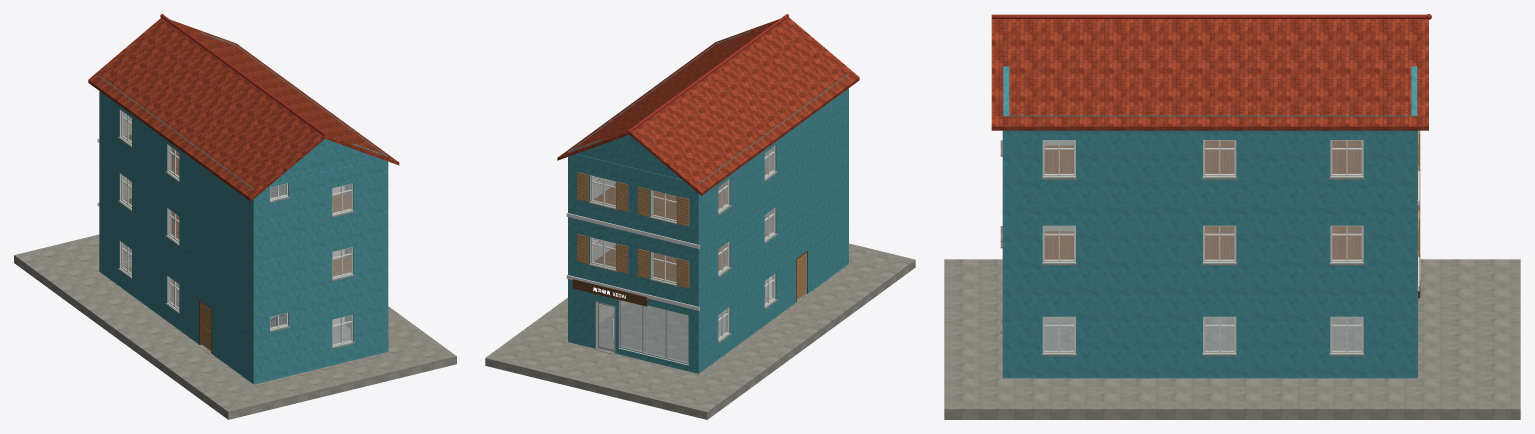
Rendered from b_sg_shophouse.gltf.
3 renders of one model, left to right at view 1: azimuth 30°, elevation 25°; view 2: azimuth 150°, elevation 25°; view 3: azimuth 270°, elevation 25°, orthographic. The views are drawn at different scales.
Parts seen in each view (by area): view 1: S_sg_shophouse; view 2: S_sg_shophouse, D_sg_shophouse_F1_S1_Door0; view 3: S_sg_shophouse.
Part boxes in pixels (x1,y1,x2,y2): S_sg_shophouse: [14, 14, 456, 419]; S_sg_shophouse: [485, 14, 915, 419]; D_sg_shophouse_F1_S1_Door0: [597, 303, 614, 351]; S_sg_shophouse: [944, 14, 1520, 419].
Size of the model in its own units: 12 by 12.35 by 19.5.
21 materials, 11 textured.
